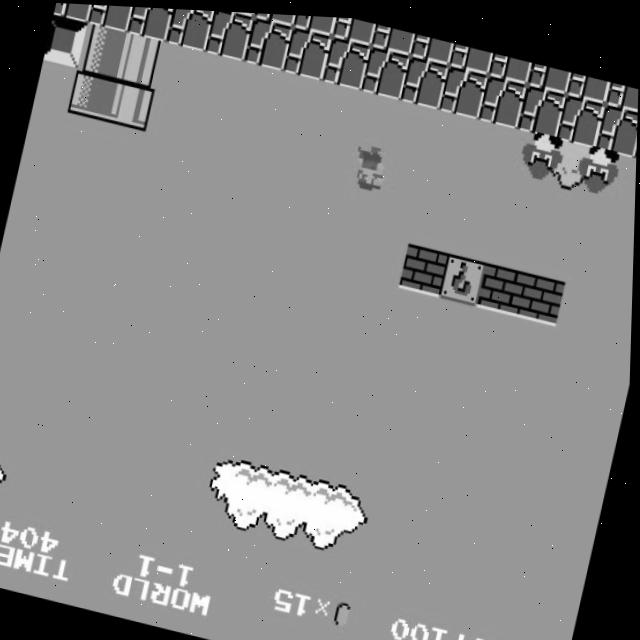1- brick_block: (517, 266, 567, 321), (478, 257, 528, 312), (400, 239, 450, 294)
11- little_mario: (345, 138, 397, 195)
13- mystery_block: (439, 248, 489, 303)
14- pipe: (77, 22, 128, 77), (116, 31, 166, 86)
15- pipe_head: (107, 75, 157, 130), (68, 66, 118, 121)
17- undestructible_block: (282, 23, 333, 78), (556, 88, 606, 143), (517, 79, 567, 134), (478, 70, 528, 125), (439, 60, 489, 115), (400, 51, 450, 106), (361, 42, 411, 97), (322, 33, 372, 88), (244, 14, 294, 69), (204, 8, 254, 59), (595, 96, 638, 151), (165, 7, 215, 50), (126, 5, 176, 41), (526, 57, 572, 89), (448, 39, 494, 71), (370, 20, 416, 52), (566, 66, 611, 98), (488, 48, 533, 80), (410, 29, 455, 61), (86, 4, 136, 32), (331, 14, 377, 42), (604, 76, 639, 107), (292, 12, 337, 34), (54, 2, 97, 23), (253, 10, 298, 24)
8- goomba: (517, 123, 571, 181), (573, 136, 626, 194)
9- hard_block: (44, 14, 88, 68)
